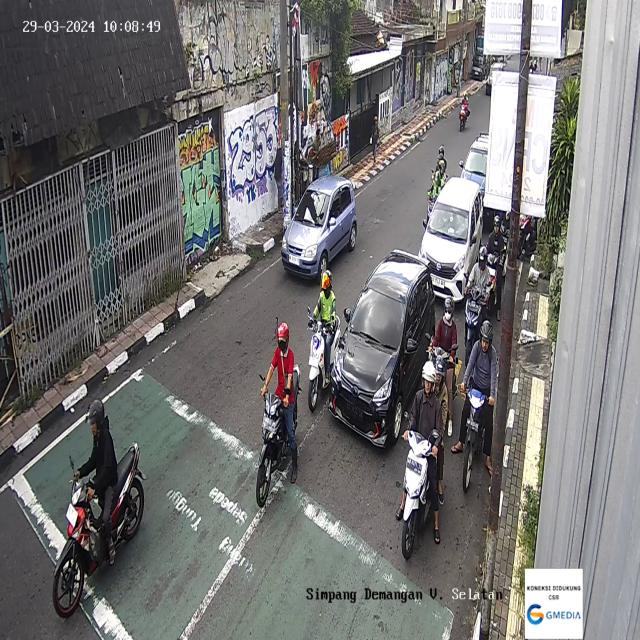car: (328, 248, 436, 449), (418, 175, 484, 303), (281, 174, 357, 281), (459, 131, 504, 229), (486, 61, 504, 94)
motorcycle: (52, 401, 144, 618), (396, 355, 448, 560), (255, 320, 301, 508), (458, 319, 498, 493), (306, 268, 342, 412), (424, 297, 460, 437), (462, 243, 491, 366), (480, 215, 506, 315), (425, 146, 451, 228), (459, 90, 471, 132)
